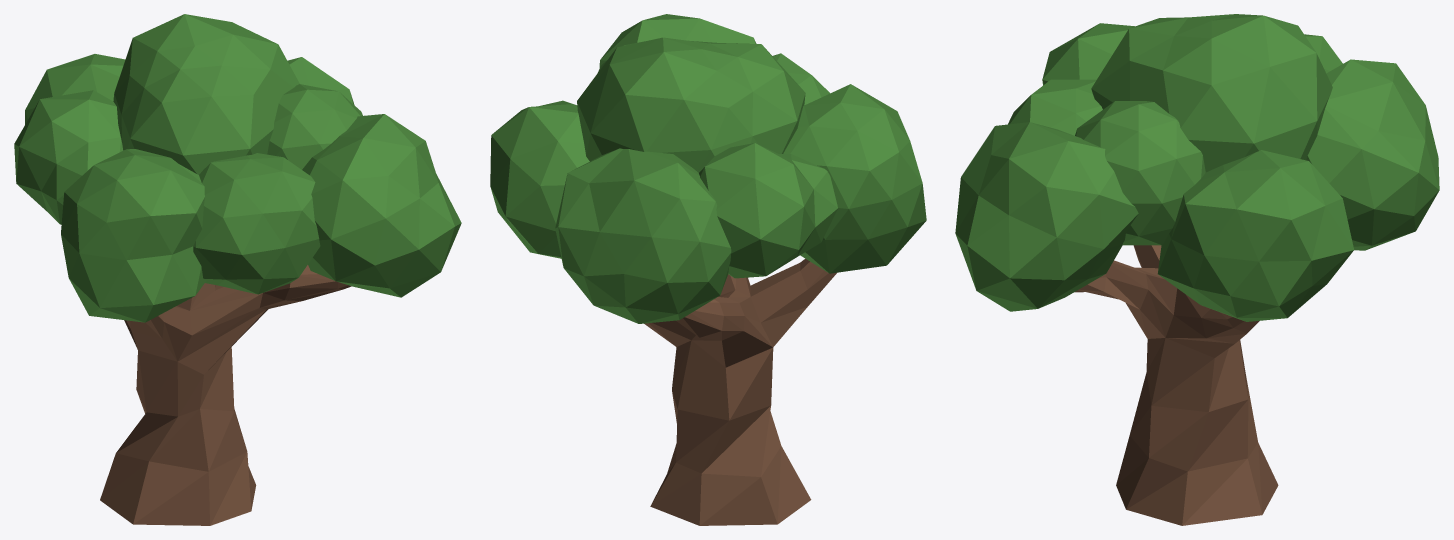
File: Tree_Full.FBX
The picture shows the model from 3 angles, left to right: view 1: azimuth 30°, elevation 25°; view 2: azimuth 150°, elevation 25°; view 3: azimuth 270°, elevation 25°; orthographic projection. The views are drawn at different scales.
Parts seen in each view (by area): view 1: Cylinder001, GeoSphere002, GeoSphere005, GeoSphere001, GeoSphere007, GeoSphere006, GeoSphere008, GeoSphere004, GeoSphere003; view 2: Cylinder001, GeoSphere004, GeoSphere002, GeoSphere001, GeoSphere006, GeoSphere003, GeoSphere005, GeoSphere007; view 3: Cylinder001, GeoSphere005, GeoSphere002, GeoSphere003, GeoSphere004, GeoSphere008, GeoSphere007, GeoSphere001, GeoSphere006.
Boxes of the visible parts, x1,y1,x2,y2 form: Cylinder001: [100, 265, 351, 525]; GeoSphere002: [113, 14, 299, 174]; GeoSphere005: [302, 114, 461, 297]; GeoSphere001: [61, 149, 206, 322]; GeoSphere007: [193, 153, 320, 294]; GeoSphere006: [14, 90, 123, 224]; GeoSphere008: [267, 84, 362, 169]; GeoSphere004: [25, 54, 125, 124]; GeoSphere003: [287, 57, 354, 104]; Cylinder001: [644, 258, 836, 525]; GeoSphere004: [555, 148, 731, 323]; GeoSphere002: [577, 37, 805, 172]; GeoSphere001: [783, 84, 926, 273]; GeoSphere006: [699, 143, 837, 278]; GeoSphere003: [490, 100, 589, 258]; GeoSphere005: [599, 14, 756, 67]; GeoSphere007: [773, 53, 830, 105]; Cylinder001: [1074, 245, 1278, 525]; GeoSphere005: [955, 122, 1138, 311]; GeoSphere002: [1091, 14, 1332, 172]; GeoSphere003: [1157, 150, 1353, 321]; GeoSphere004: [1306, 59, 1439, 250]; GeoSphere008: [1075, 101, 1205, 245]; GeoSphere007: [1008, 79, 1102, 135]; GeoSphere001: [1042, 23, 1134, 85]; GeoSphere006: [1304, 34, 1342, 73].
Size of the model in its own units: 33.18 by 42.04 by 37.49.
